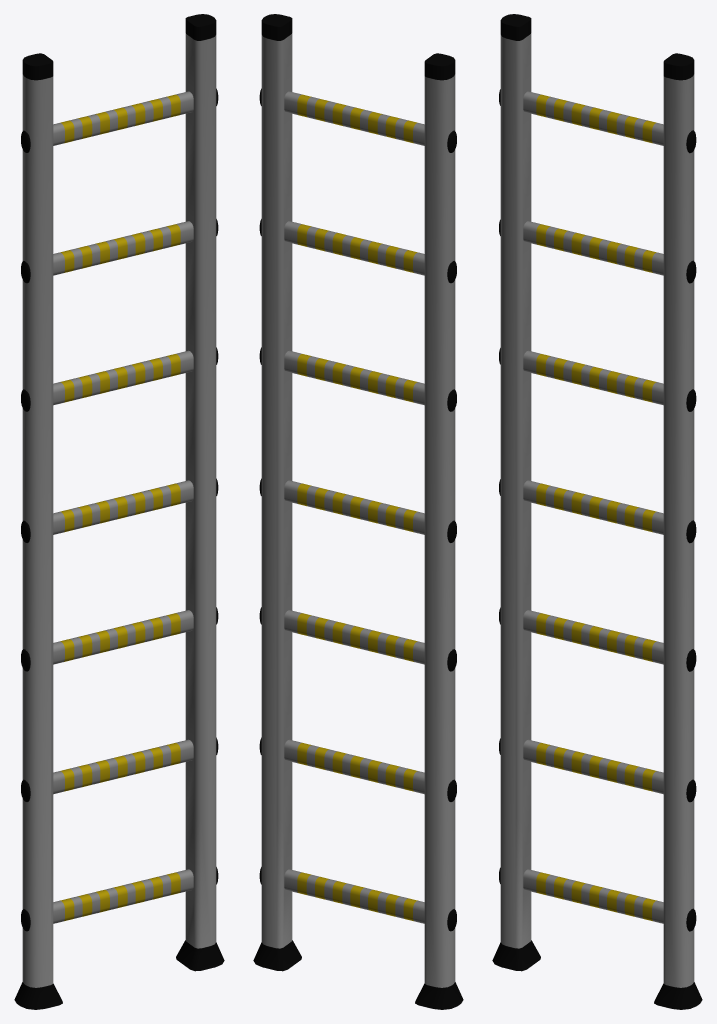
The model's file is Ladder.fbx.
The picture shows the model from 3 angles, left to right: view 1: azimuth 30°, elevation 25°; view 2: azimuth 150°, elevation 25°; view 3: azimuth 330°, elevation 25°; orthographic projection.
Parts seen in each view (by area): view 1: Cube; view 2: Cube; view 3: Cube.
Boxes of the visible parts, x1,y1,x2,y2 form: Cube: (14,14,224,1009); Cube: (253,14,463,1009); Cube: (492,14,702,1009).
Size of the model in its own units: 638 by 117 by 2838.
